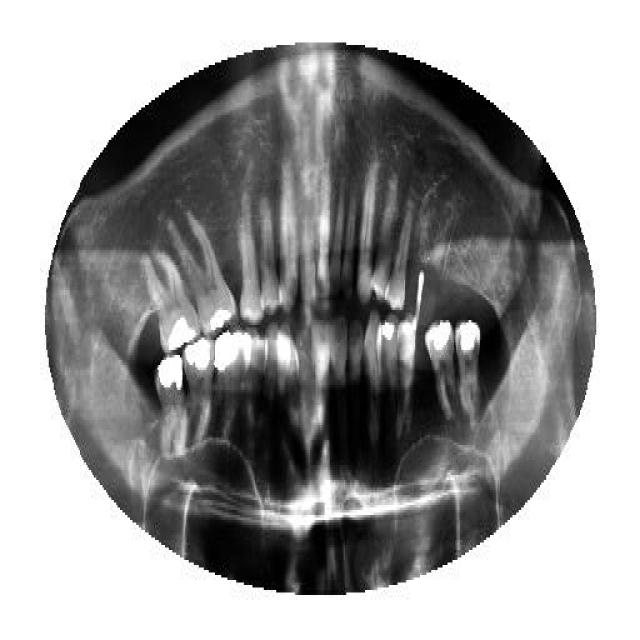Fillings: (166, 212, 236, 338), (140, 248, 201, 348), (215, 328, 253, 440), (184, 337, 216, 455), (425, 320, 459, 428), (156, 350, 185, 462), (457, 318, 482, 420)
